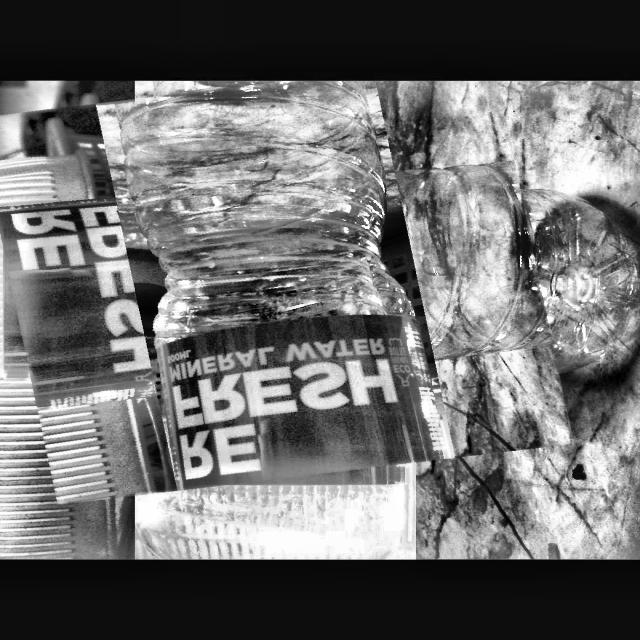Plastic-Bottle: (0, 80, 556, 490)
